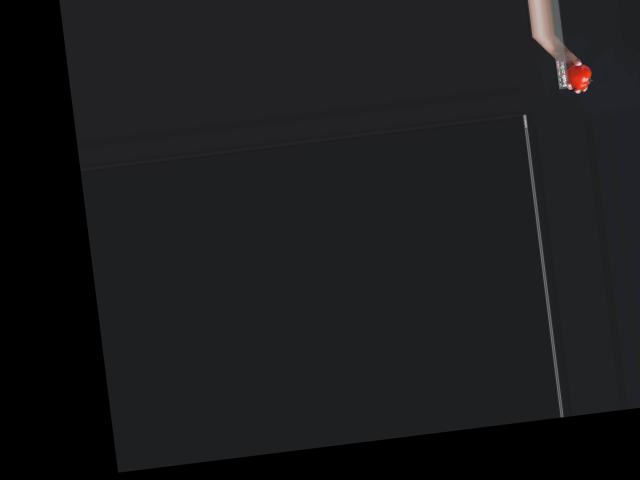tomato: (565, 63, 593, 91)
